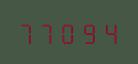four: (98, 20, 117, 44)
nine: (78, 20, 97, 44)
seven: (18, 20, 37, 44), (38, 20, 57, 44)
zero: (58, 20, 77, 44)
